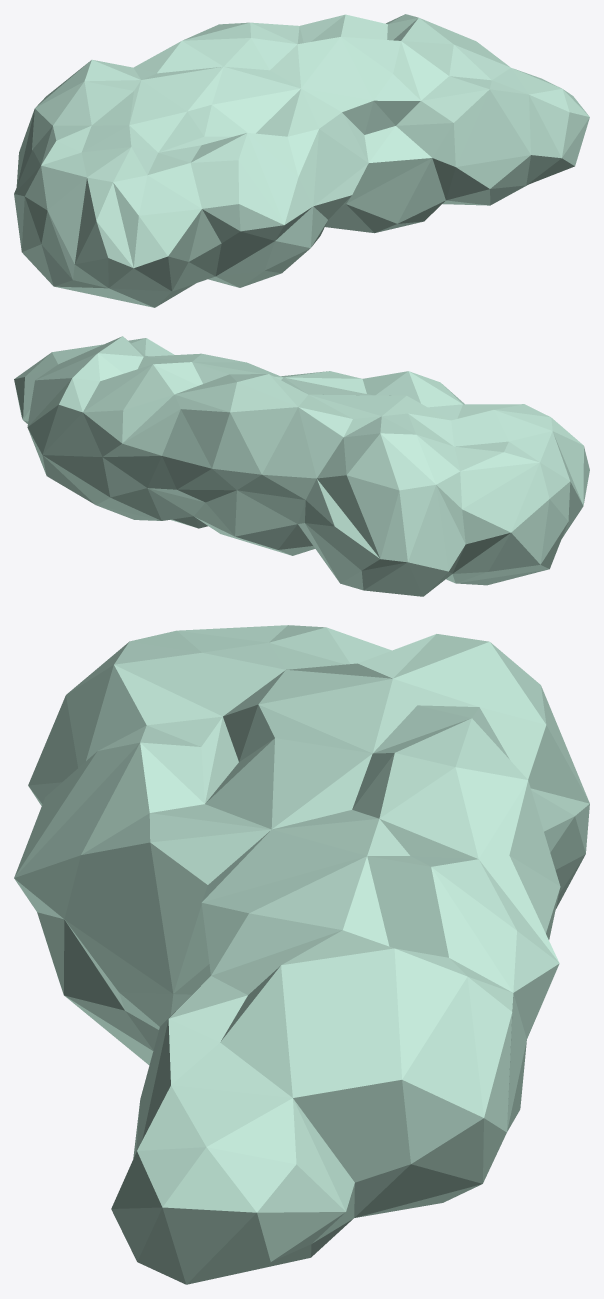
The model's file is SM_cloud_03.fbx.
The picture shows the model from 3 angles, top to bottom: view 1: azimuth 30°, elevation 25°; view 2: azimuth 150°, elevation 25°; view 3: azimuth 270°, elevation 25°; orthographic projection. The views are drawn at different scales.
Visible parts, largest first — view 1: cloud_03; view 2: cloud_03; view 3: cloud_03.
Boxes of the visible parts, box(x1,y1,x2,y2) form: cloud_03: box(14, 14, 589, 307); cloud_03: box(14, 336, 589, 596); cloud_03: box(14, 625, 589, 1284).
Size of the model in its own units: 11543 by 3946 by 5611.
